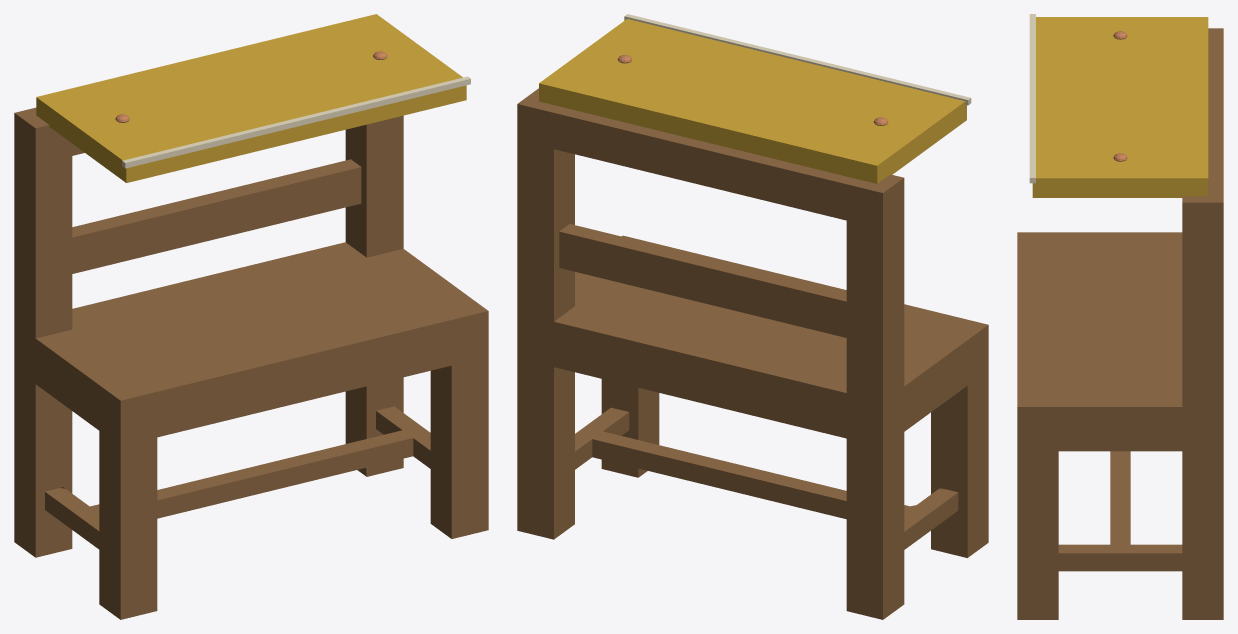
File: bench.glb
3 views of the same model, side by side, from view 1: azimuth 30°, elevation 25°; view 2: azimuth 150°, elevation 25°; view 3: azimuth 270°, elevation 25° (orthographic). The views are drawn at different scales.
Parts seen in each view (by area): view 1: bench(Clone); view 2: bench(Clone); view 3: bench(Clone).
Boxes of the visible parts, box(x1,y1,x2,y2) form: bench(Clone): box(14, 14, 488, 619); bench(Clone): box(517, 14, 988, 619); bench(Clone): box(1017, 14, 1223, 619).
Bounding box in the file's own units: 0.4 × 0.47 × 0.2.
